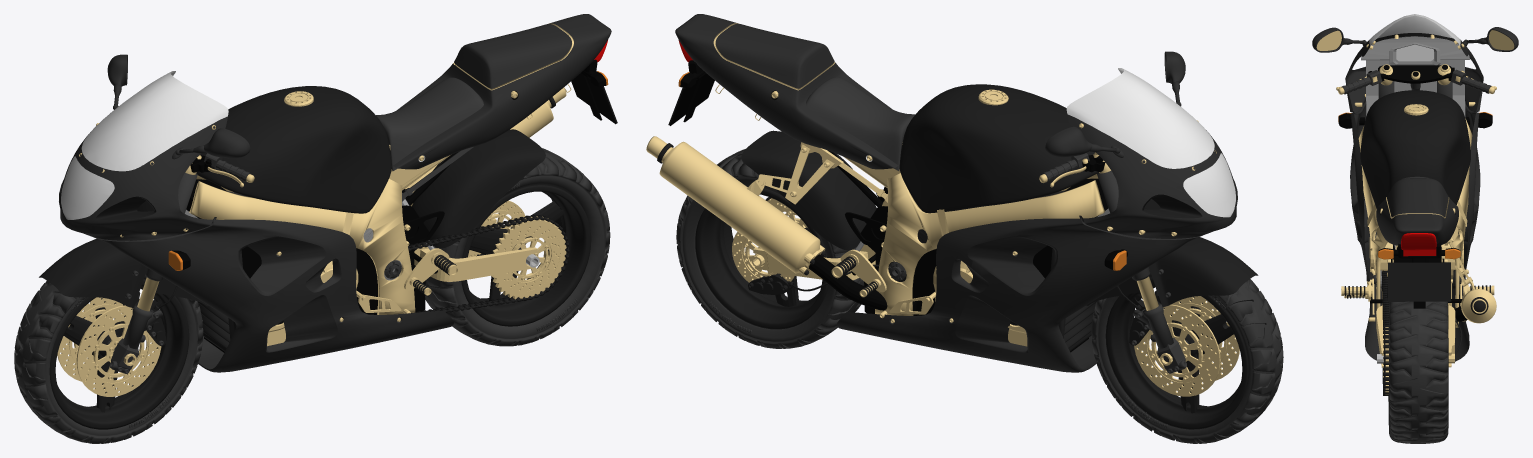
File: Suzuki_.fbx
3 renders of one model, left to right at view 1: azimuth 30°, elevation 25°; view 2: azimuth 150°, elevation 25°; view 3: azimuth 270°, elevation 25°, orthographic. The views are drawn at different scales.
Visible parts, largest first — view 1: right; view 2: right; view 3: right.
Boxes of the visible parts, x1,y1,x2,y2 form: right: (14,14,617,443); right: (646,14,1283,443); right: (1312,14,1518,443).
Size of the model in its own units: 160 by 89.71 by 59.22.
